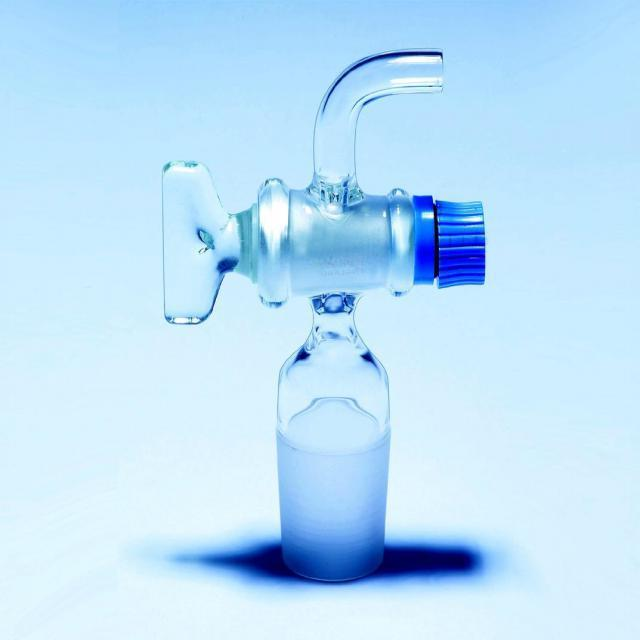glass: (164, 50, 483, 581)
